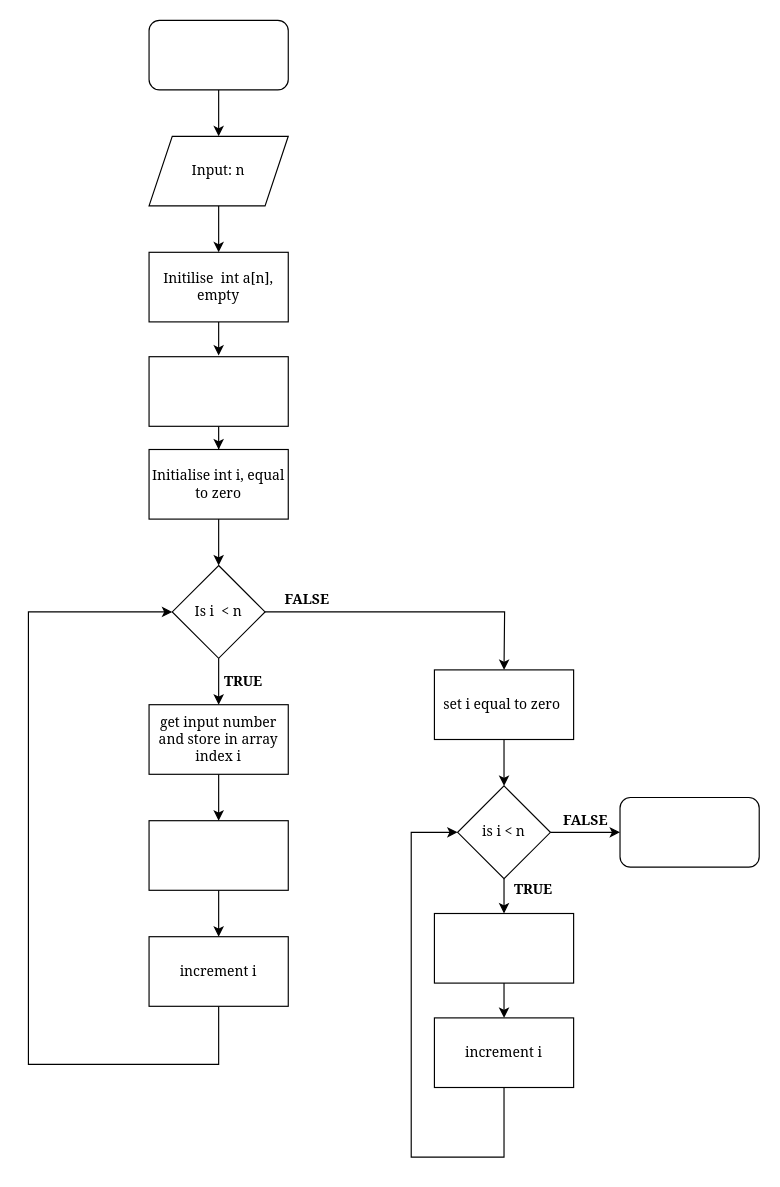
This 780x1187 diagram has some shape labels left out. The centre of each missing label's shape, as x and y in pixels:
add number in array index i to sum variable: (x=503, y=947)
Initialise int sum, equal to zero: (x=218, y=391)
return sum: (x=689, y=831)
square the number in index i and save it in index i: (x=218, y=855)
Start: (x=218, y=54)
